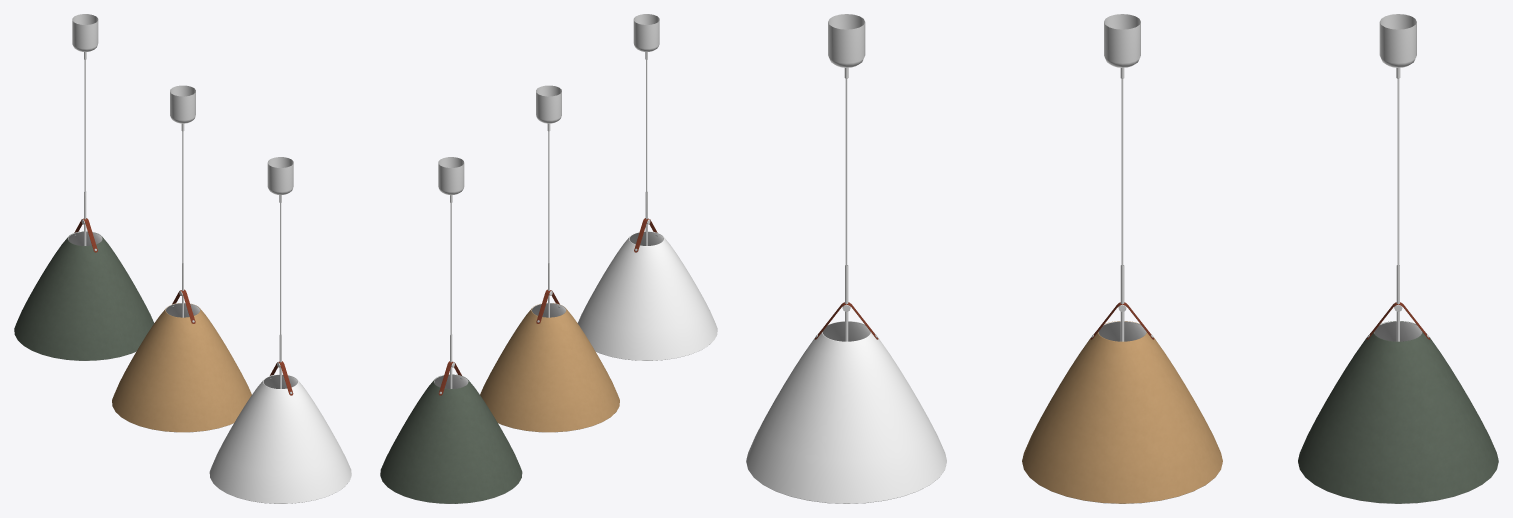
File: ceiling_lamp (1).glb
The picture shows the model from 3 angles, left to right: view 1: azimuth 30°, elevation 25°; view 2: azimuth 150°, elevation 25°; view 3: azimuth 270°, elevation 25°; orthographic projection. The views are drawn at different scales.
Visible parts, largest first — view 1: Furniture_Lamp2_White, Furniture_Lamp2_Green, Furniture_Lamp2_Yellow; view 2: Furniture_Lamp2_Green, Furniture_Lamp2_White, Furniture_Lamp2_Yellow; view 3: Furniture_Lamp2_Yellow, Furniture_Lamp2_White, Furniture_Lamp2_Green.
Boxes of the visible parts, x1=… form: Furniture_Lamp2_White: x1=209, y1=157, x2=351, y2=503; Furniture_Lamp2_Green: x1=14, y1=14, x2=154, y2=360; Furniture_Lamp2_Yellow: x1=112, y1=85, x2=251, y2=432; Furniture_Lamp2_Green: x1=380, y1=157, x2=522, y2=503; Furniture_Lamp2_White: x1=577, y1=14, x2=717, y2=360; Furniture_Lamp2_Yellow: x1=480, y1=85, x2=619, y2=432; Furniture_Lamp2_Yellow: x1=1022, y1=14, x2=1222, y2=503; Furniture_Lamp2_White: x1=746, y1=14, x2=946, y2=503; Furniture_Lamp2_Green: x1=1298, y1=14, x2=1498, y2=503.
Size of the model in its own units: 0.3644 by 0.8796 by 1.36.
Materials: 7 (5 with a texture image).
